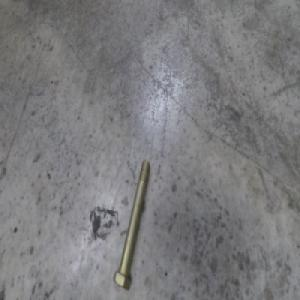Bolt: (110, 156, 147, 294)
